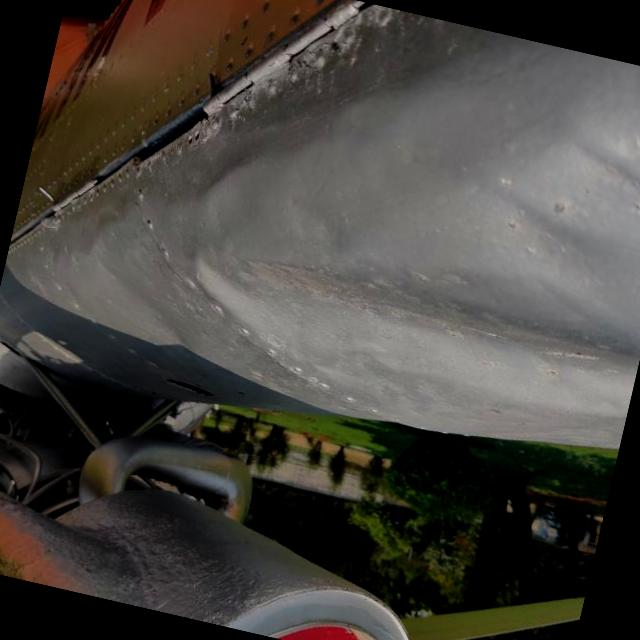dent: (152, 199, 640, 478), (453, 140, 619, 288), (531, 96, 640, 230)
